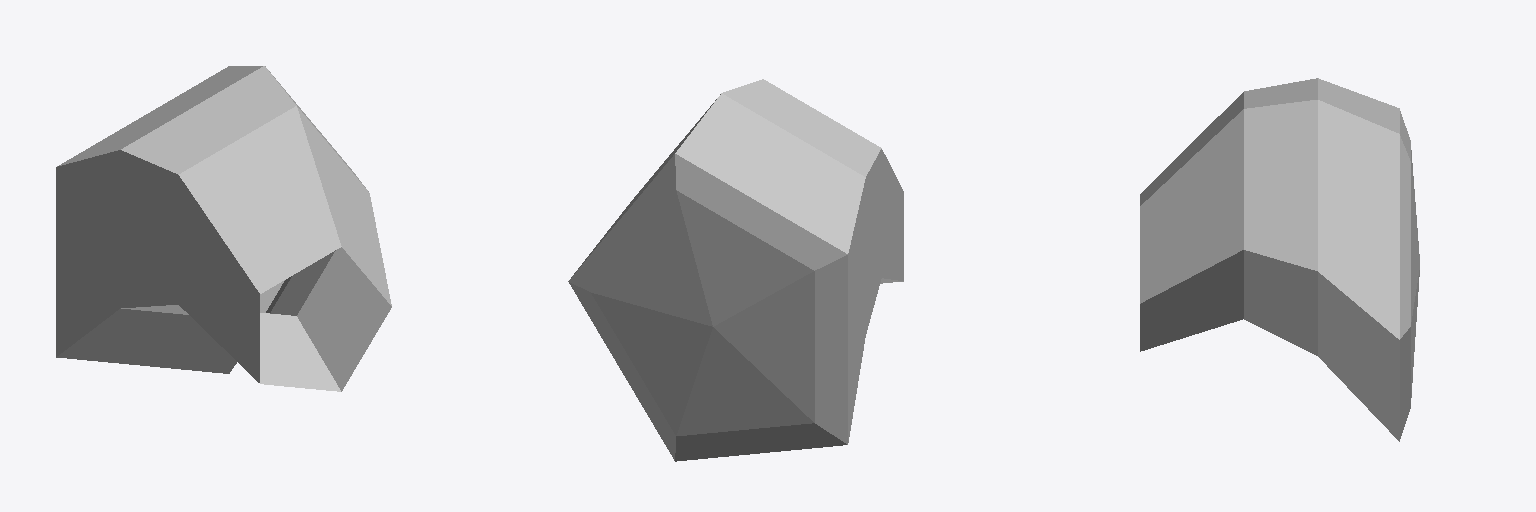
Rendered from BR_Psyduck.obj.
3 renders of one model, left to right at view 1: azimuth 30°, elevation 25°; view 2: azimuth 150°, elevation 25°; view 3: azimuth 270°, elevation 25°, orthographic.
Visible parts, largest first — view 1: koduck; view 2: koduck; view 3: koduck.
Part boxes in pixels (bbox=[...]): koduck: bbox=[56, 66, 391, 391]; koduck: bbox=[568, 79, 903, 461]; koduck: bbox=[1140, 78, 1419, 441].
Bounding box in the file's own units: 1.75 × 2.03 × 1.52.